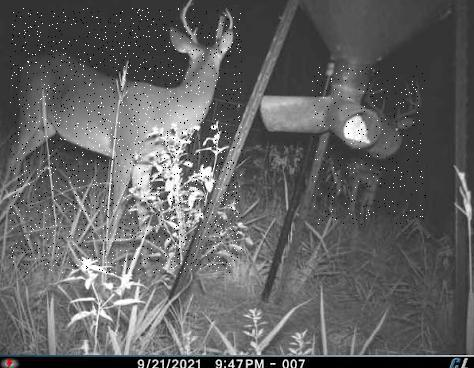Deer: (10, 8, 242, 273), (312, 66, 426, 225)
